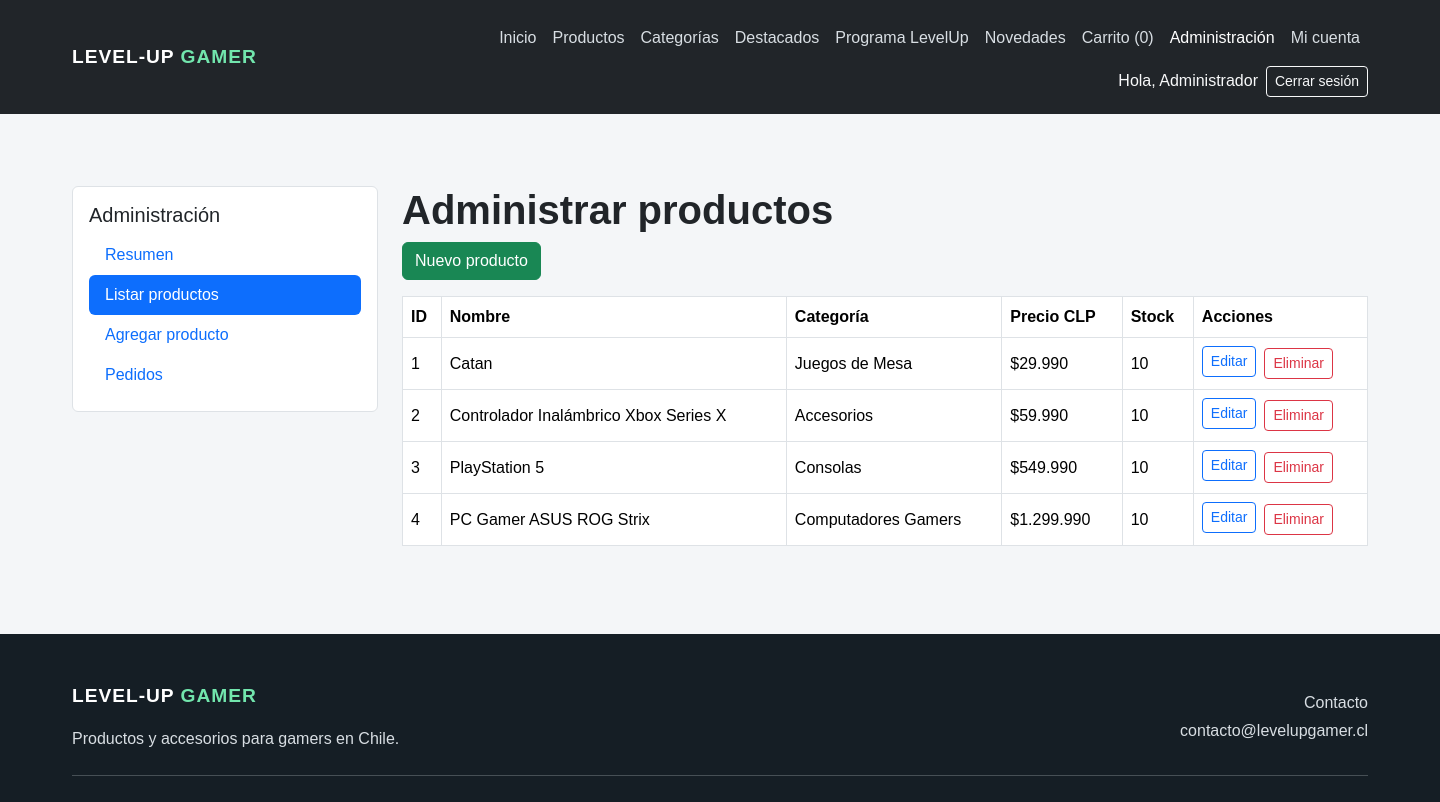
Scenario: la administración maneja 401 sin eliminar el producto
The width and height of the screenshot is (1440, 802).
Step 1. Click the button with aria-label "Eliminar Catan" → (1299, 364), box [1264, 348, 1333, 379]
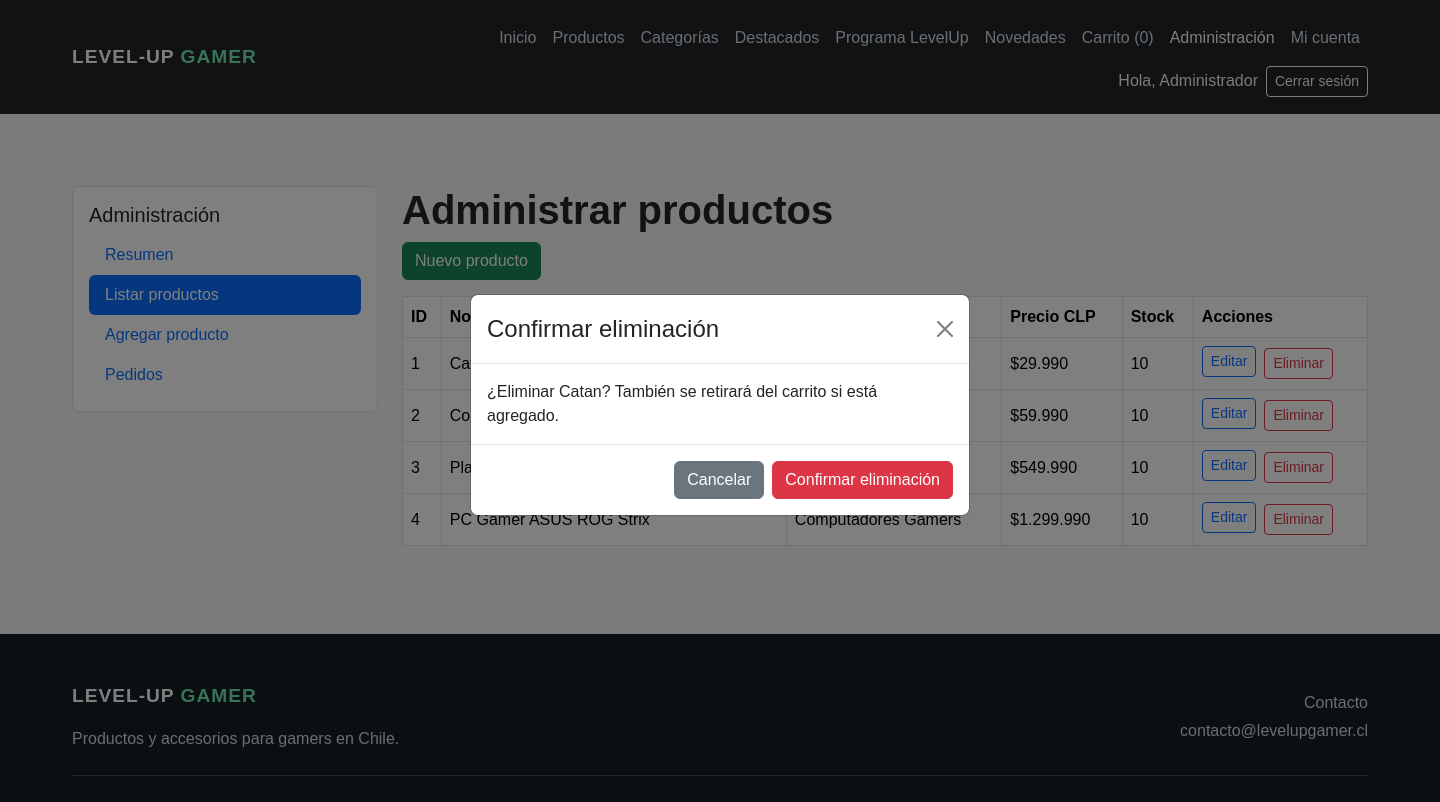
Step 2. Click the button "Confirmar eliminación" → (863, 480), box [772, 461, 953, 499]
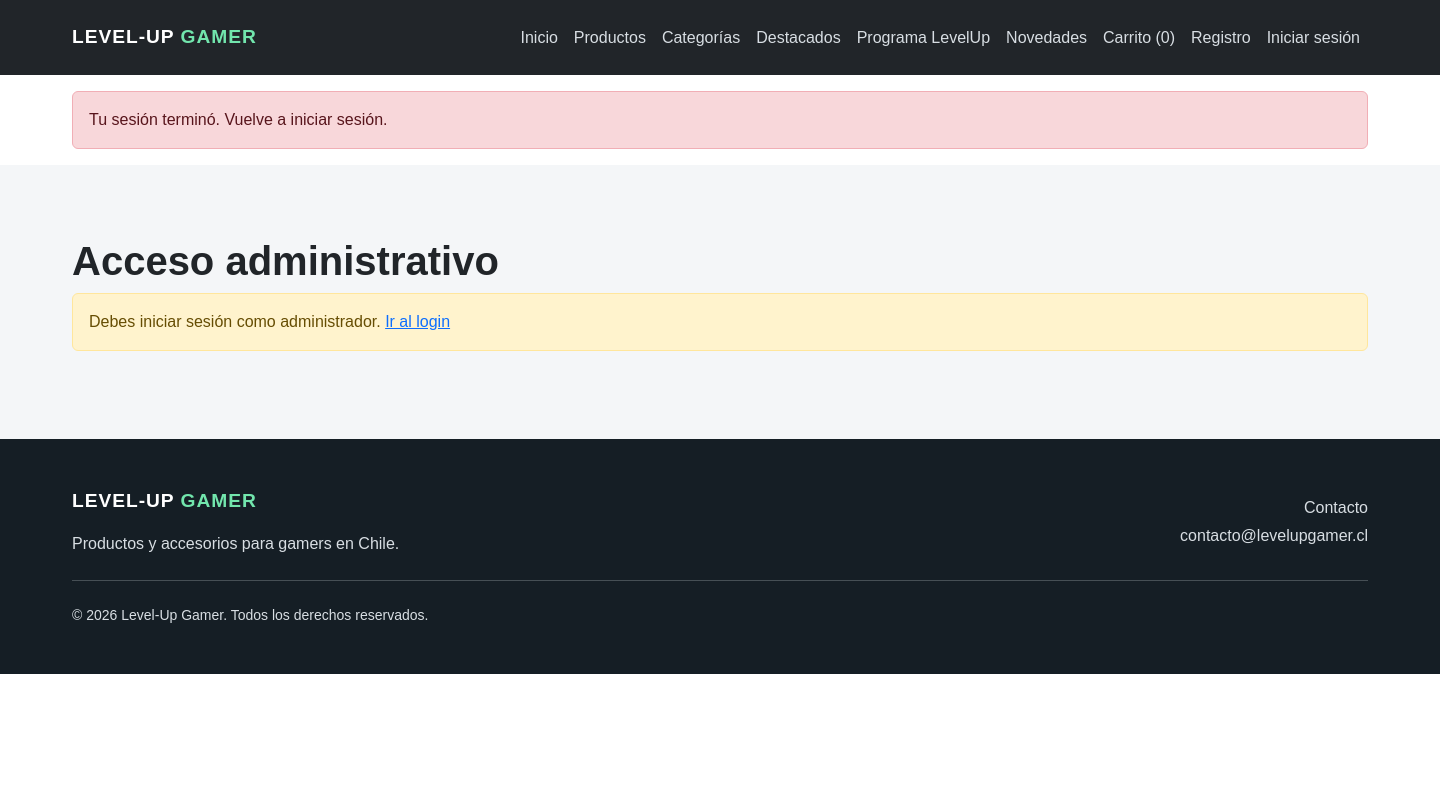
Check: the text "Tu sesión terminó. Vuelve a iniciar sesión." is shown, box [72, 91, 1368, 149]
